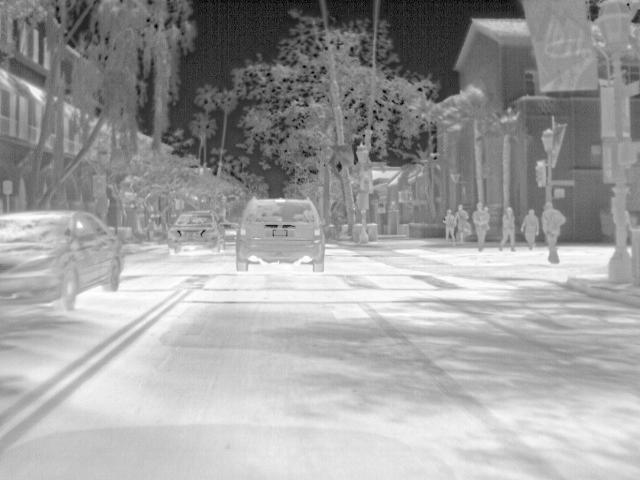car: (1, 208, 126, 314), (234, 194, 327, 274), (166, 209, 222, 256), (219, 221, 240, 244)
person: (541, 200, 565, 262), (499, 206, 520, 252), (472, 201, 491, 251), (521, 208, 540, 253), (454, 204, 469, 246), (445, 208, 459, 241)
